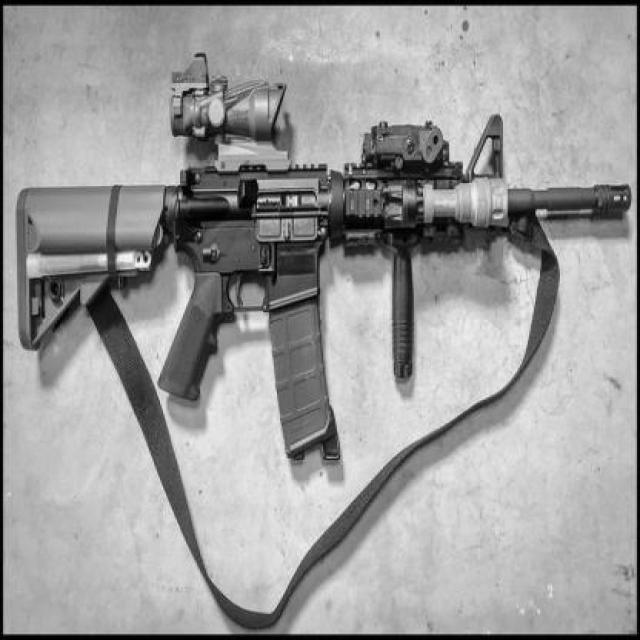weapon: (15, 50, 634, 464)
